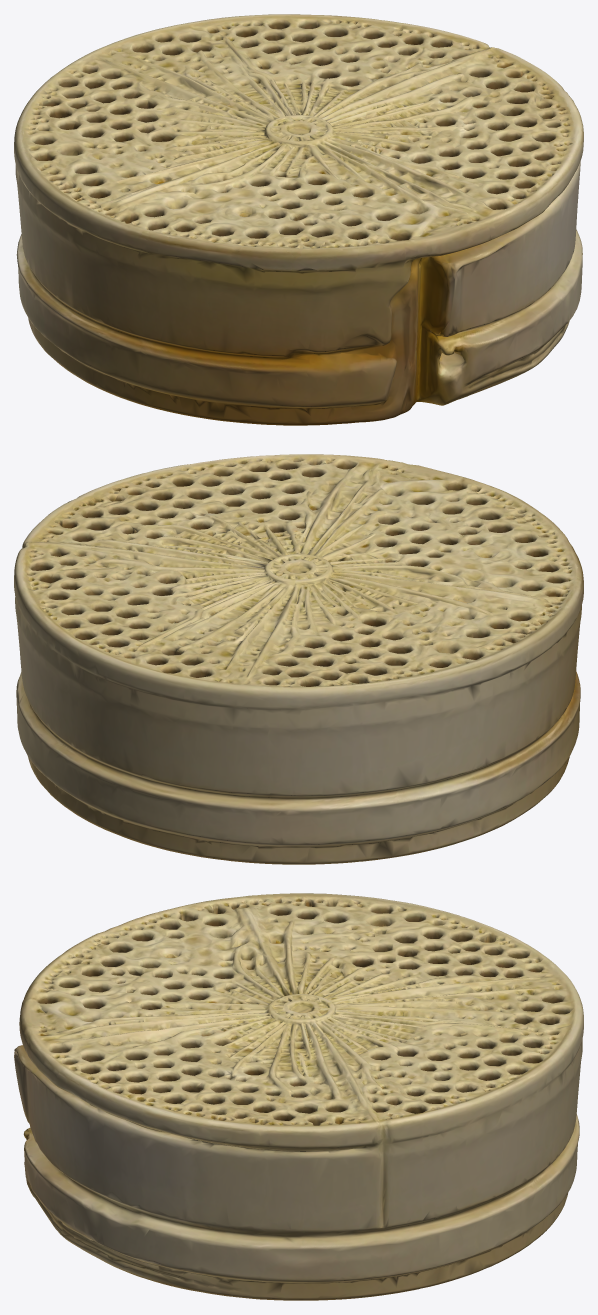
The model's file is diatom.glb.
3 renders of one model, top to bottom at view 1: azimuth 30°, elevation 25°; view 2: azimuth 150°, elevation 25°; view 3: azimuth 270°, elevation 25°, orthographic.
Parts seen in each view (by area): view 1: tripo_node_3865bfef-7db5-4aee-b7d2-25278cece18c; view 2: tripo_node_3865bfef-7db5-4aee-b7d2-25278cece18c; view 3: tripo_node_3865bfef-7db5-4aee-b7d2-25278cece18c.
Part boxes in pixels (box(x1,y1,x2,y2)): tripo_node_3865bfef-7db5-4aee-b7d2-25278cece18c: box(14, 14, 583, 425); tripo_node_3865bfef-7db5-4aee-b7d2-25278cece18c: box(14, 454, 583, 864); tripo_node_3865bfef-7db5-4aee-b7d2-25278cece18c: box(14, 893, 583, 1300).
Size of the model in its own units: 0.9733 by 0.3465 by 0.9797.
1 material, 1 textured.
